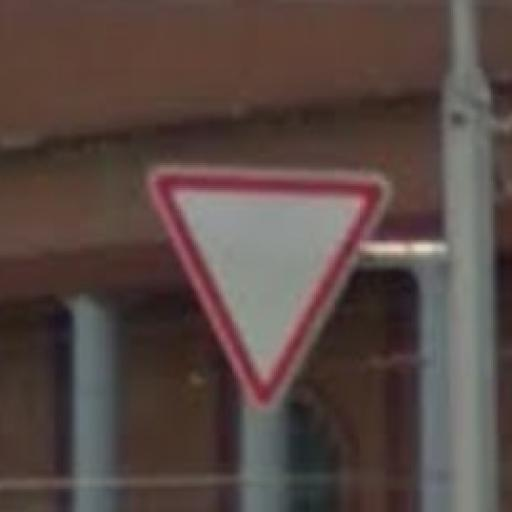traffic_sign: (144, 164, 395, 417)
